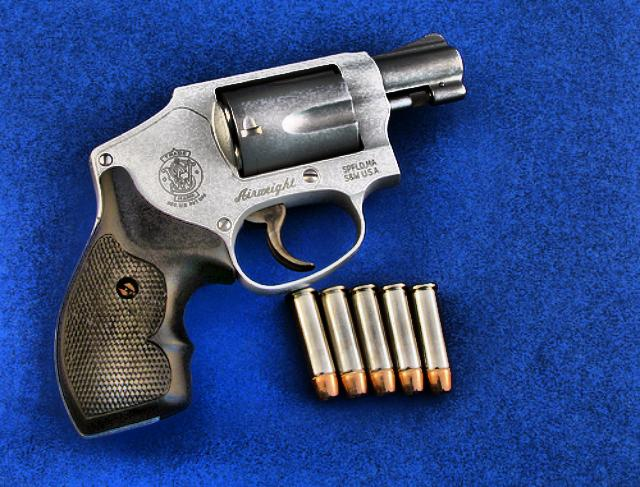pistol: (54, 30, 462, 438)
